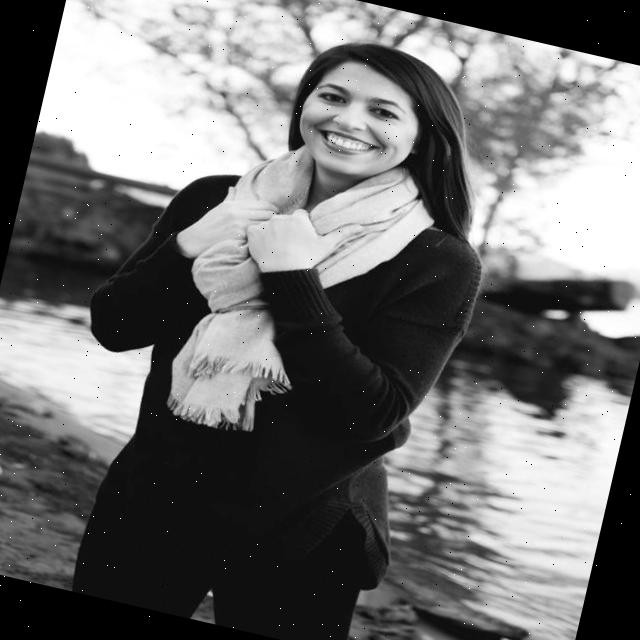Happiness: (282, 44, 435, 195)
